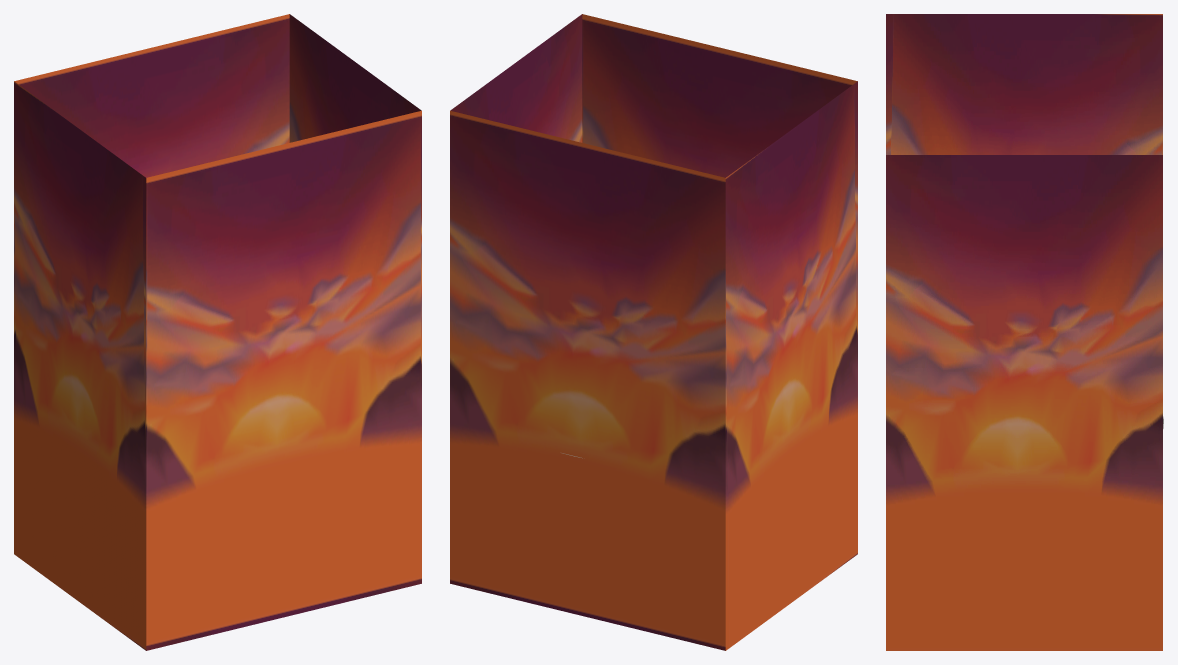
3 renders of one model, left to right at view 1: azimuth 30°, elevation 25°; view 2: azimuth 150°, elevation 25°; view 3: azimuth 270°, elevation 25°, orthographic. The views are drawn at different scales.
Visible parts, largest first — view 1: Skybox; view 2: Skybox; view 3: Skybox.
Boxes of the visible parts, <box> form: Skybox: <box>14,14,421,650</box>; Skybox: <box>450,14,857,650</box>; Skybox: <box>886,14,1162,650</box>.
Bounding box in the file's own units: 174999 × 286994 × 145635.
5 materials, 5 textured.
